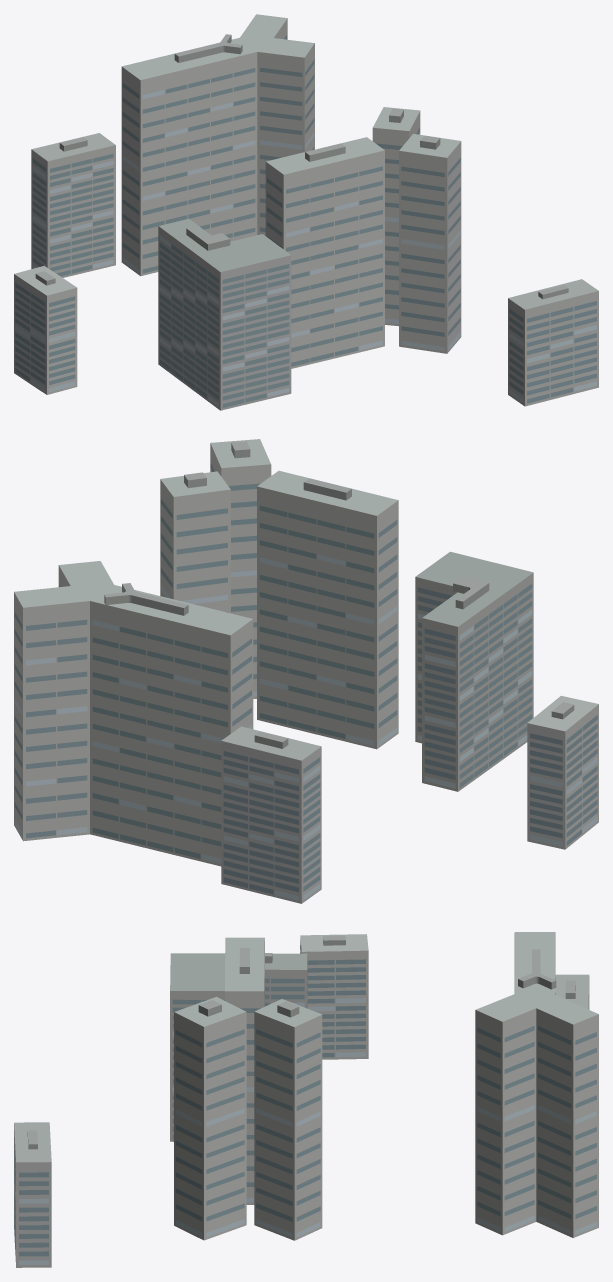
The model's file is apt-a13471501.glb.
The picture shows the model from 3 angles, top to bottom: view 1: azimuth 30°, elevation 25°; view 2: azimuth 150°, elevation 25°; view 3: azimuth 270°, elevation 25°; orthographic projection. The views are drawn at different scales.
Visible parts, largest first — view 1: apt-a13471501; view 2: apt-a13471501; view 3: apt-a13471501.
Boxes of the visible parts, bbox=[...] form: apt-a13471501: bbox=[14, 14, 598, 410]; apt-a13471501: bbox=[14, 439, 598, 903]; apt-a13471501: bbox=[14, 932, 598, 1267].
Size of the model in its own units: 162 by 74 by 178.
